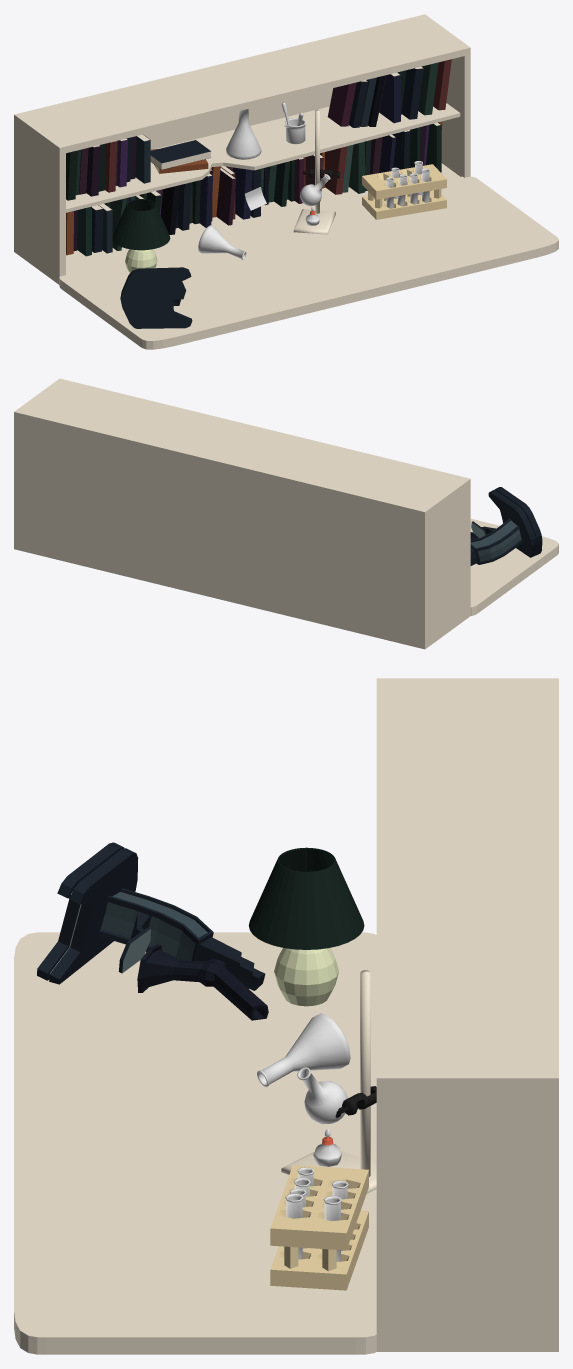
File: Level2_Shelf.fbx
The picture shows the model from 3 angles, top to bottom: view 1: azimuth 30°, elevation 25°; view 2: azimuth 150°, elevation 25°; view 3: azimuth 270°, elevation 25°; orthographic projection. The views are drawn at different scales.
Parts seen in each view (by area): view 1: Shelf, Table, Microscope, TubeHolder, Lampshade, Book1.003, ClampStand, ConicalFlask.002, Book13, Book18, Book0, Book26 (+27 smaller); view 2: Shelf, Microscope, Table; view 3: Shelf, Table, Microscope, TubeHolder, Lampshade, Microscope_Lens, ConicalFlask, Lamp_base, ClampStand, SphericalFlask.
Part boxes in pixels (x1,y1,x2,y2): Shelf: (14, 14, 470, 284); Table: (59, 176, 558, 349); Microscope: (120, 267, 192, 328); TubeHolder: (362, 164, 446, 219); Lampshade: (112, 199, 170, 250); Book1.003: (150, 140, 210, 169); ClampStand: (293, 109, 335, 234); ConicalFlask.002: (226, 109, 261, 159); Book13: (327, 82, 356, 126); Book18: (379, 72, 400, 123); Book0: (401, 66, 423, 119); Book26: (216, 167, 236, 225); Shelf: (14, 378, 470, 649); Microscope: (470, 487, 542, 565); Table: (470, 519, 558, 615); Shelf: (376, 678, 558, 1351); Table: (14, 932, 376, 1354); Microscope: (37, 842, 265, 990); TubeHolder: (270, 1165, 368, 1290); Lampshade: (248, 847, 364, 949); Microscope_Lens: (137, 944, 268, 1020); ConicalFlask: (257, 1013, 350, 1087); Lamp_base: (274, 948, 338, 1006); ClampStand: (281, 970, 376, 1193); SphericalFlask: (297, 1067, 347, 1124).
Size of the model in its own units: 1018 by 319 by 576.
